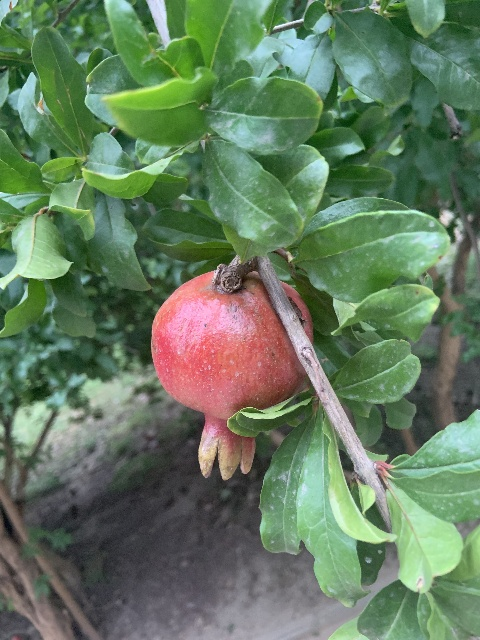ripe: (150, 266, 314, 480)
